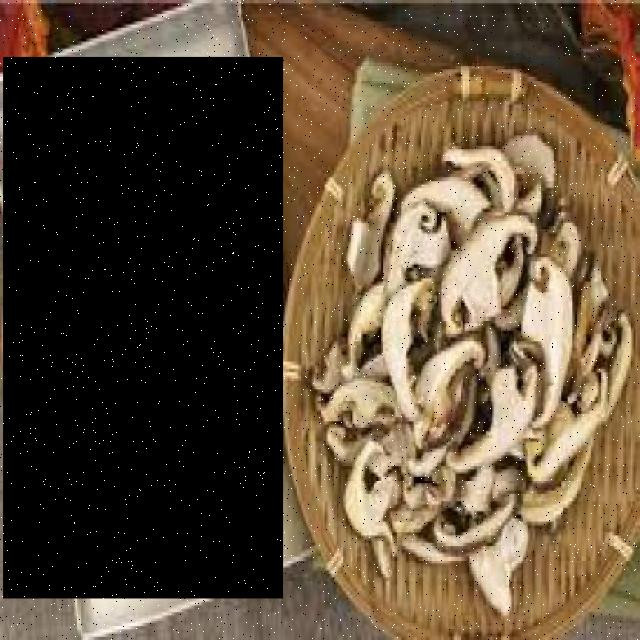Mushroom: (4, 57, 282, 598)
